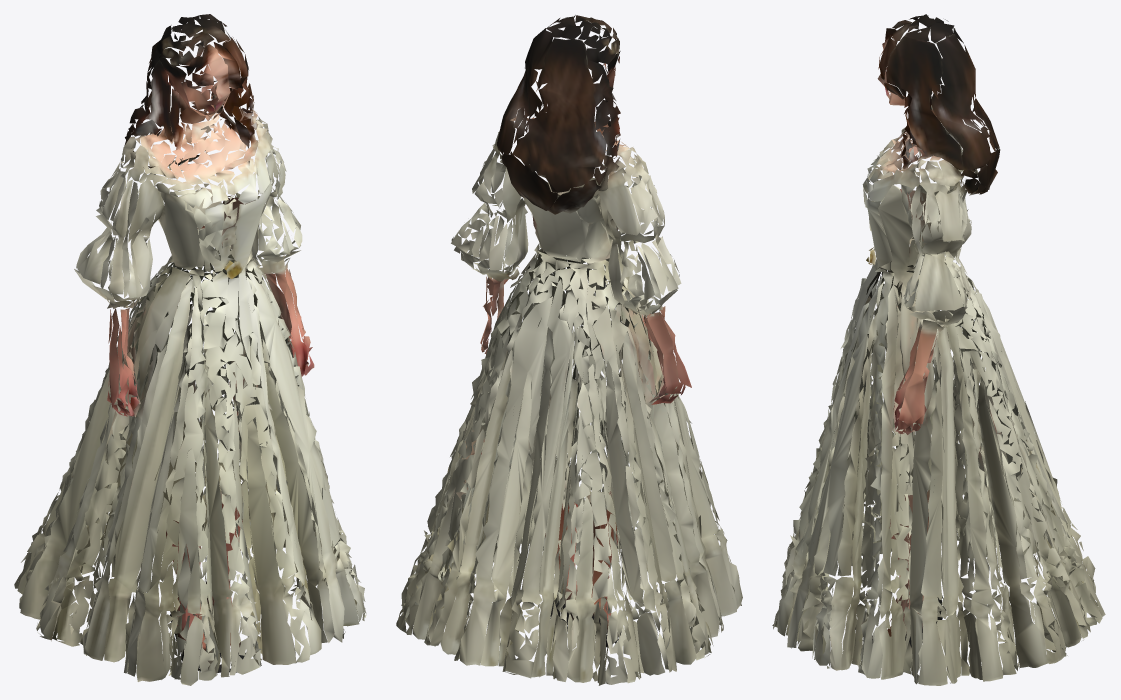
File: char_adult_f_elegant.glb
The picture shows the model from 3 angles, left to right: view 1: azimuth 30°, elevation 25°; view 2: azimuth 150°, elevation 25°; view 3: azimuth 270°, elevation 25°; orthographic projection.
Visible parts, largest first — view 1: geometry_0; view 2: geometry_0; view 3: geometry_0.
Part boxes in pixels (x1,y1,x2,y2): geometry_0: (14, 14, 366, 685); geometry_0: (396, 15, 742, 685); geometry_0: (772, 14, 1105, 685).
Size of the model in its own units: 1.5 by 3.04 by 1.46.
Materials: 1 (1 with a texture image).
